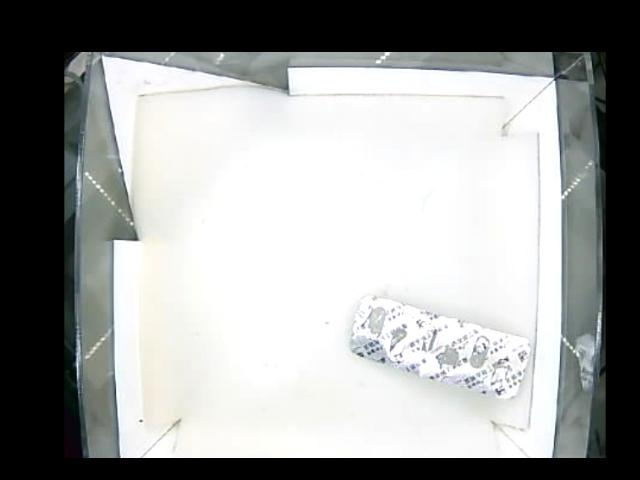Medicine: (349, 296, 533, 399)
